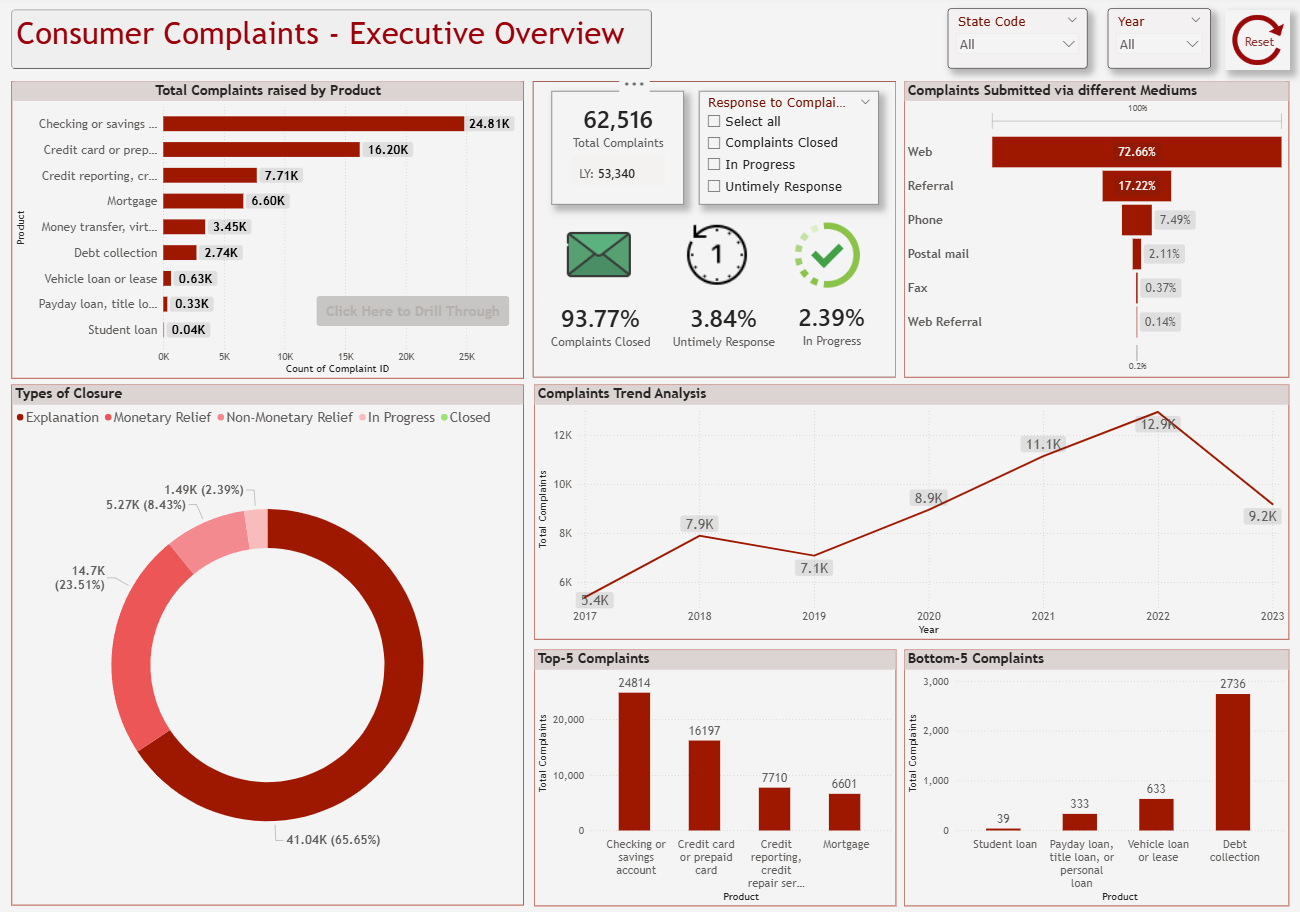

This screenshot's page, from the dashboard's own definition file:
{"tool":"powerbi","page":{"name":"Dashboard","canvas":[2000,1410],"ordinal":0},"visuals":[{"type":"cardVisual","fields":{"Data":["_Measures.Timely Response Yes"]},"box":[1507.2,399.4,230.6,117.4],"z":0},{"type":"slicer","fields":{"Values":["Calendar.Year","Calendar.Short Year Hierarchy.Quarter"]},"box":[1515.4,168.8,214.1,90.6],"z":1000},{"type":"textbox","box":[1896.3,53.5,78.2,35],"z":2000},{"type":"cardVisual","fields":{"Data":["_Measures.InProgress %"]},"box":[1192.2,442.7,173,119.4],"z":3000},{"type":"barChart","title":"Total Complaints raised by Product","fields":{"Category":["Data.Product"],"Y":["CountNonNull(Data.Complaint ID)"]},"box":[18.5,129.7,786.5,457.1],"z":4000},{"type":"cardVisual","fields":{"Data":["_Measures.Timely Response Yes"]},"box":[807.1,444.7,230.6,117.4],"z":5000},{"type":"shape","box":[819.5,129.7,558,455],"z":6000},{"type":"cardVisual","title":"Total Complaints","fields":{"Data":["_Measures.Total Compliants"]},"box":[848.2,145.8,203.4,174.6],"z":7000},{"type":"textbox","box":[18.5,20.6,982.1,90.6],"z":8000},{"type":"actionButton","box":[1390.5,258.7,65.8,54.9],"z":12000},{"type":"slicer","fields":{"Values":["Data.State"]},"box":[1422.8,20.6,214.1,90.6],"z":13000},{"type":"pieChart","title":"Types of Closure","fields":{"Category":["Data.Types of Closure"],"Y":["CountNonNull(Data.Complaint ID)"]},"box":[18.5,597.1,786.5,798.9],"z":14000},{"type":"actionButton","box":[488,460,296,46],"z":15000},{"type":"image","box":[1881.9,20.6,98.8,92.7],"z":16000},{"type":"slicer","fields":{"Values":["Data.Response Type"]},"box":[1074.6,145.8,276.3,174.6],"z":17000},{"type":"clusteredColumnChart","title":"Top-5 Complaints ","fields":{"Category":["Data.Product"],"Y":["CountNonNull(Data.Complaint ID)"]},"box":[821.5,1002.7,555.9,393.3],"z":18000},{"type":"columnChart","title":"Bottom-5 Complaints ","fields":{"Category":["Data.Product"],"Y":["CountNonNull(Data.Complaint ID)"]},"box":[1389.8,1002.7,590.9,393.3],"z":19000},{"type":"image","box":[868.9,348,103,98.8],"z":20000},{"type":"image","box":[1025.7,347.3,151.7,100],"z":21000},{"type":"image","box":[1192.3,337.3,160,120],"z":22000},{"type":"lineChart","title":"Complaints Trend Analysis","fields":{"Category":["Calendar.Short Year Hierarchy.Short Year","Calendar.Short Year Hierarchy.Quarter"],"Y":["CountNonNull(Data.Complaint ID)"]},"box":[1142.7,730.9,514.8,271.8],"z":23000},{"type":"cardVisual","fields":{"Data":["_Measures.No Response %"]},"box":[1000.7,444.7,224.4,117.4],"z":24000},{"type":"lineChart","title":"Complaints Trend Analysis","fields":{"Y":["CountNonNull(Data.Complaint ID)"],"Category":["Calendar.Year"]},"box":[821.5,597.1,1159.2,391.2],"z":25000},{"type":"slicer","fields":{"Values":["Calendar.Year"]},"box":[1657.5,20.6,214.1,90.6],"z":26000},{"type":"funnel","title":"Complaints Submitted via different Mediums","fields":{"Category":["Data.Submitted via"],"Y":["_Measures.Complaint % by Submitted Via"]},"box":[1389.8,129.7,590.9,455],"z":27000}]}

Visuals, with their boxes in screenshot pixels (x1, y1, x2, y2), scaled from the page's 2000x1410 canvas onto the 1300x912 screenshot:
cardVisual - _Measures.Timely Response Yes: Rect(980, 258, 1130, 334)
slicer - Calendar.Year x Calendar.Short Year Hierarchy.Quarter: Rect(985, 109, 1124, 168)
textbox: Rect(1233, 35, 1283, 57)
cardVisual - _Measures.InProgress %: Rect(775, 286, 887, 364)
"Total Complaints raised by Product" barChart: Rect(12, 84, 523, 380)
cardVisual - _Measures.Timely Response Yes: Rect(525, 288, 675, 364)
shape: Rect(533, 84, 895, 378)
"Total Complaints" cardVisual: Rect(551, 94, 684, 207)
textbox: Rect(12, 13, 650, 72)
actionButton: Rect(904, 167, 947, 203)
slicer - Data.State: Rect(925, 13, 1064, 72)
"Types of Closure" pieChart: Rect(12, 386, 523, 903)
actionButton: Rect(317, 298, 510, 327)
image: Rect(1223, 13, 1287, 73)
slicer - Data.Response Type: Rect(698, 94, 878, 207)
"Top-5 Complaints " clusteredColumnChart: Rect(534, 649, 895, 903)
"Bottom-5 Complaints " columnChart: Rect(903, 649, 1287, 903)
image: Rect(565, 225, 632, 289)
image: Rect(667, 225, 765, 289)
image: Rect(775, 218, 879, 296)
"Complaints Trend Analysis" lineChart: Rect(743, 473, 1077, 649)
cardVisual - _Measures.No Response %: Rect(650, 288, 796, 364)
"Complaints Trend Analysis" lineChart: Rect(534, 386, 1287, 639)
slicer - Calendar.Year: Rect(1077, 13, 1217, 72)
"Complaints Submitted via different Mediums" funnel: Rect(903, 84, 1287, 378)
